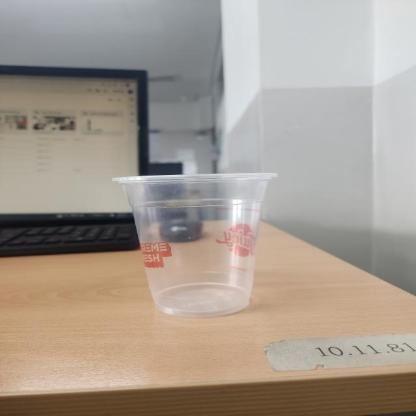Plastic Cup: (110, 172, 276, 318)
